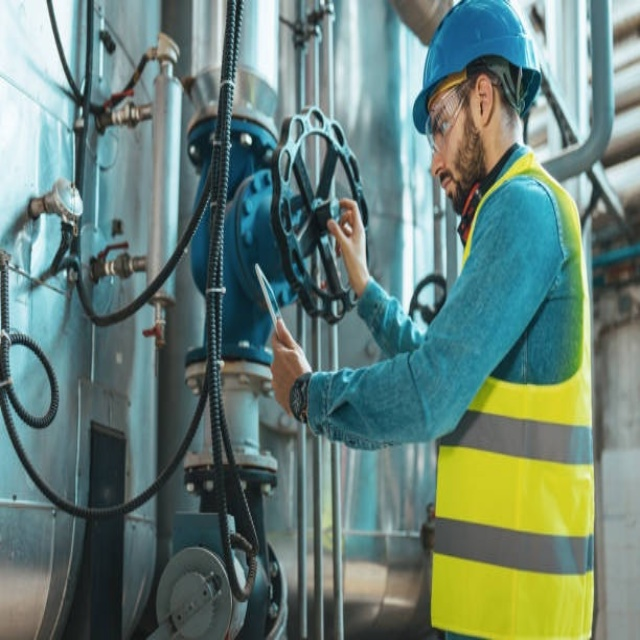Gafas: (422, 80, 470, 155)
Sin_guantes: (268, 315, 315, 419), (330, 190, 371, 281)
Sin_mascara: (436, 168, 465, 215)
